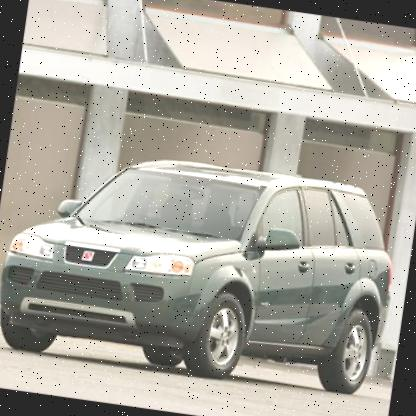car: (0, 130, 409, 411)
